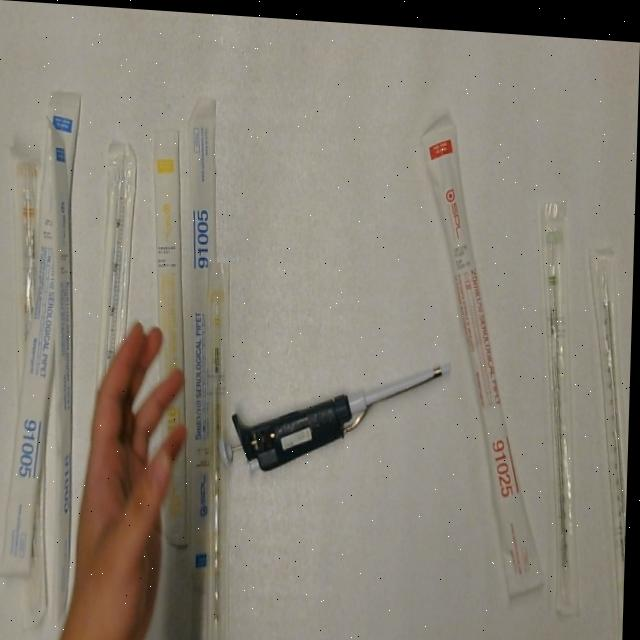Serelogical Pipet 1 mL - Sealed: (147, 118, 199, 555), (202, 255, 243, 640)
Serelogical Pipet 10 mL - Sealed: (8, 147, 44, 388)
Serelogical Pipet 2 mL - Sealed: (528, 185, 603, 619)
Serelogical Pipet 25 mL - Sealed: (410, 110, 561, 600)
Serelogical Pipet 5 mL - Sealed: (1, 76, 85, 586), (35, 115, 85, 631), (178, 91, 228, 598)
Single Channel Pipettor: (216, 339, 461, 480)
